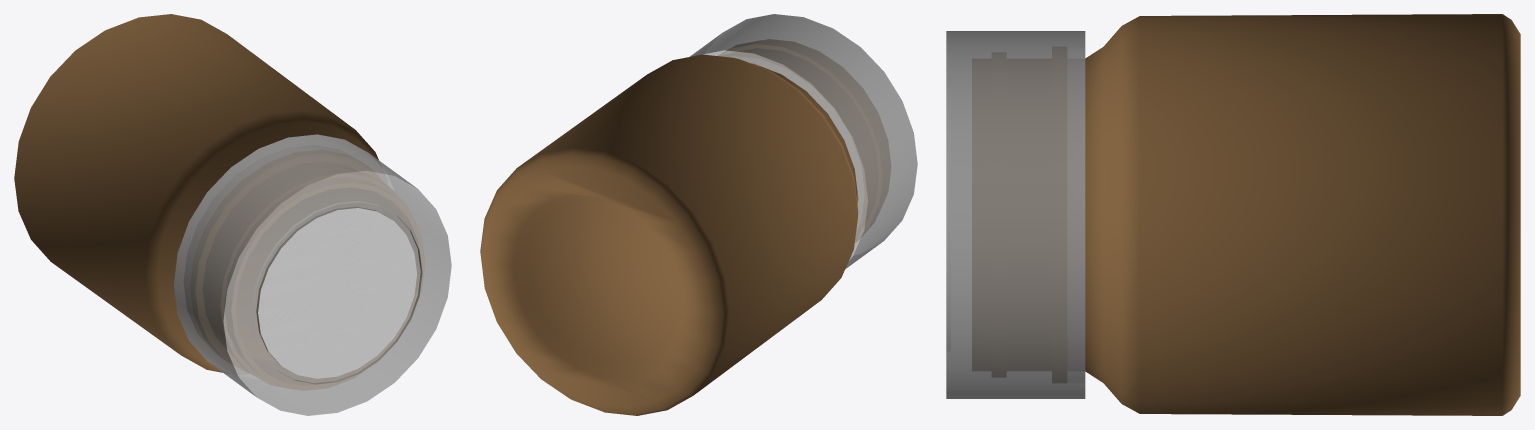
Rendered from model_align.obj.
3 renders of one model, left to right at view 1: azimuth 30°, elevation 25°; view 2: azimuth 150°, elevation 25°; view 3: azimuth 270°, elevation 25°, orthographic. The views are drawn at different scales.
Parts seen in each view (by area): view 1: mesh9_mesh9-geometry, mesh1_mesh1-geometry; view 2: mesh9_mesh9-geometry, mesh1_mesh1-geometry; view 3: mesh9_mesh9-geometry, mesh1_mesh1-geometry.
Boxes of the visible parts, box(x1,y1,x2,y2) form: mesh9_mesh9-geometry: box(14, 14, 424, 390); mesh1_mesh1-geometry: box(173, 134, 451, 415); mesh9_mesh9-geometry: box(480, 39, 890, 415); mesh1_mesh1-geometry: box(690, 14, 917, 268); mesh9_mesh9-geometry: box(972, 14, 1520, 415); mesh1_mesh1-geometry: box(946, 31, 1085, 398).
Size of the model in its own units: 0.1325 by 0.1325 by 0.1885.
